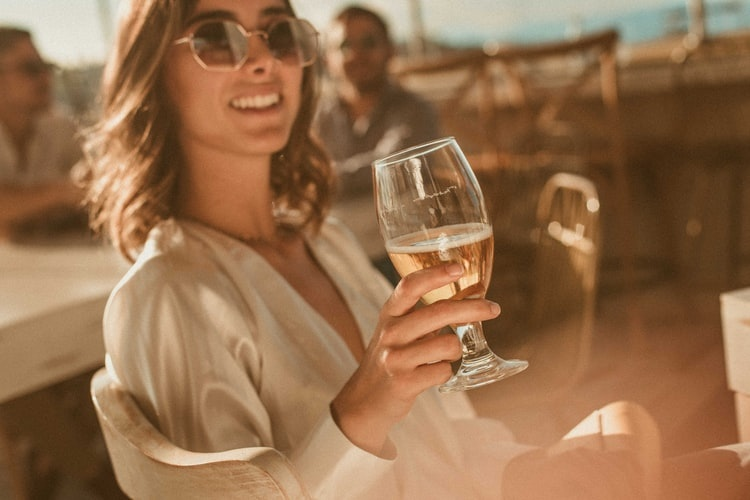whiskey: (367, 135, 524, 386)
